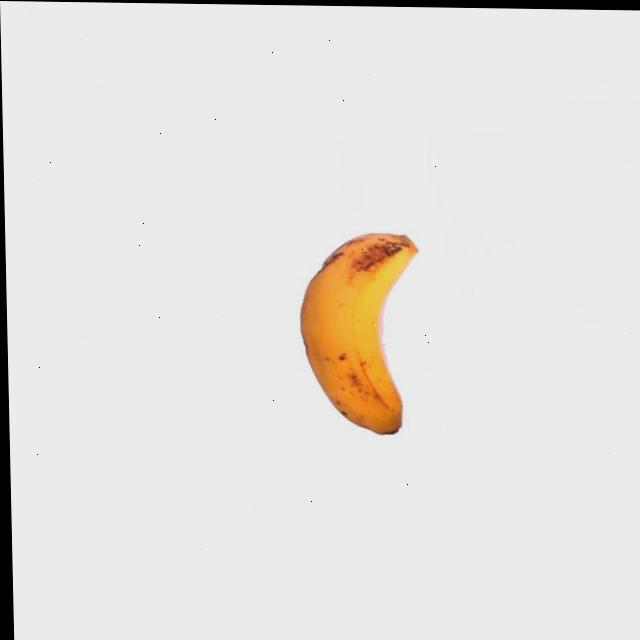banana: (294, 226, 428, 438)
